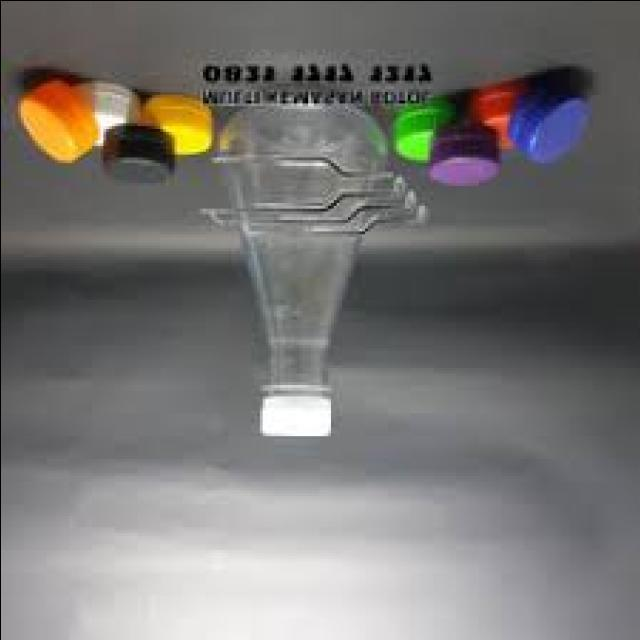good: (220, 66, 402, 461)
